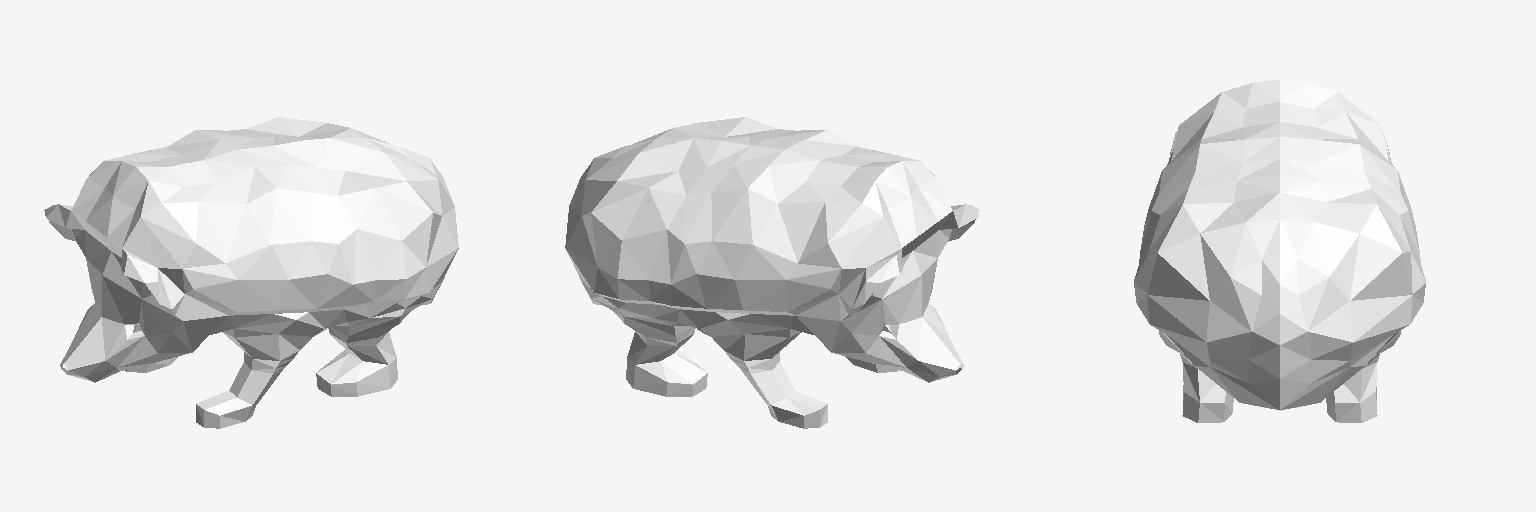
Rendered from hedgehog.obj.
The picture shows the model from 3 angles: view 1: azimuth 30°, elevation 25°; view 2: azimuth 150°, elevation 25°; view 3: azimuth 270°, elevation 25°; orthographic projection.
Parts seen in each view (by area): view 1: hedgehog_Mesh.010; view 2: hedgehog_Mesh.010; view 3: hedgehog_Mesh.010.
Boxes of the visible parts, x1=… form: hedgehog_Mesh.010: x1=44, y1=117, x2=458, y2=428; hedgehog_Mesh.010: x1=565, y1=117, x2=979, y2=428; hedgehog_Mesh.010: x1=1134, y1=80, x2=1425, y2=422.
Size of the model in its own units: 0.2694 by 0.1561 by 0.1753.